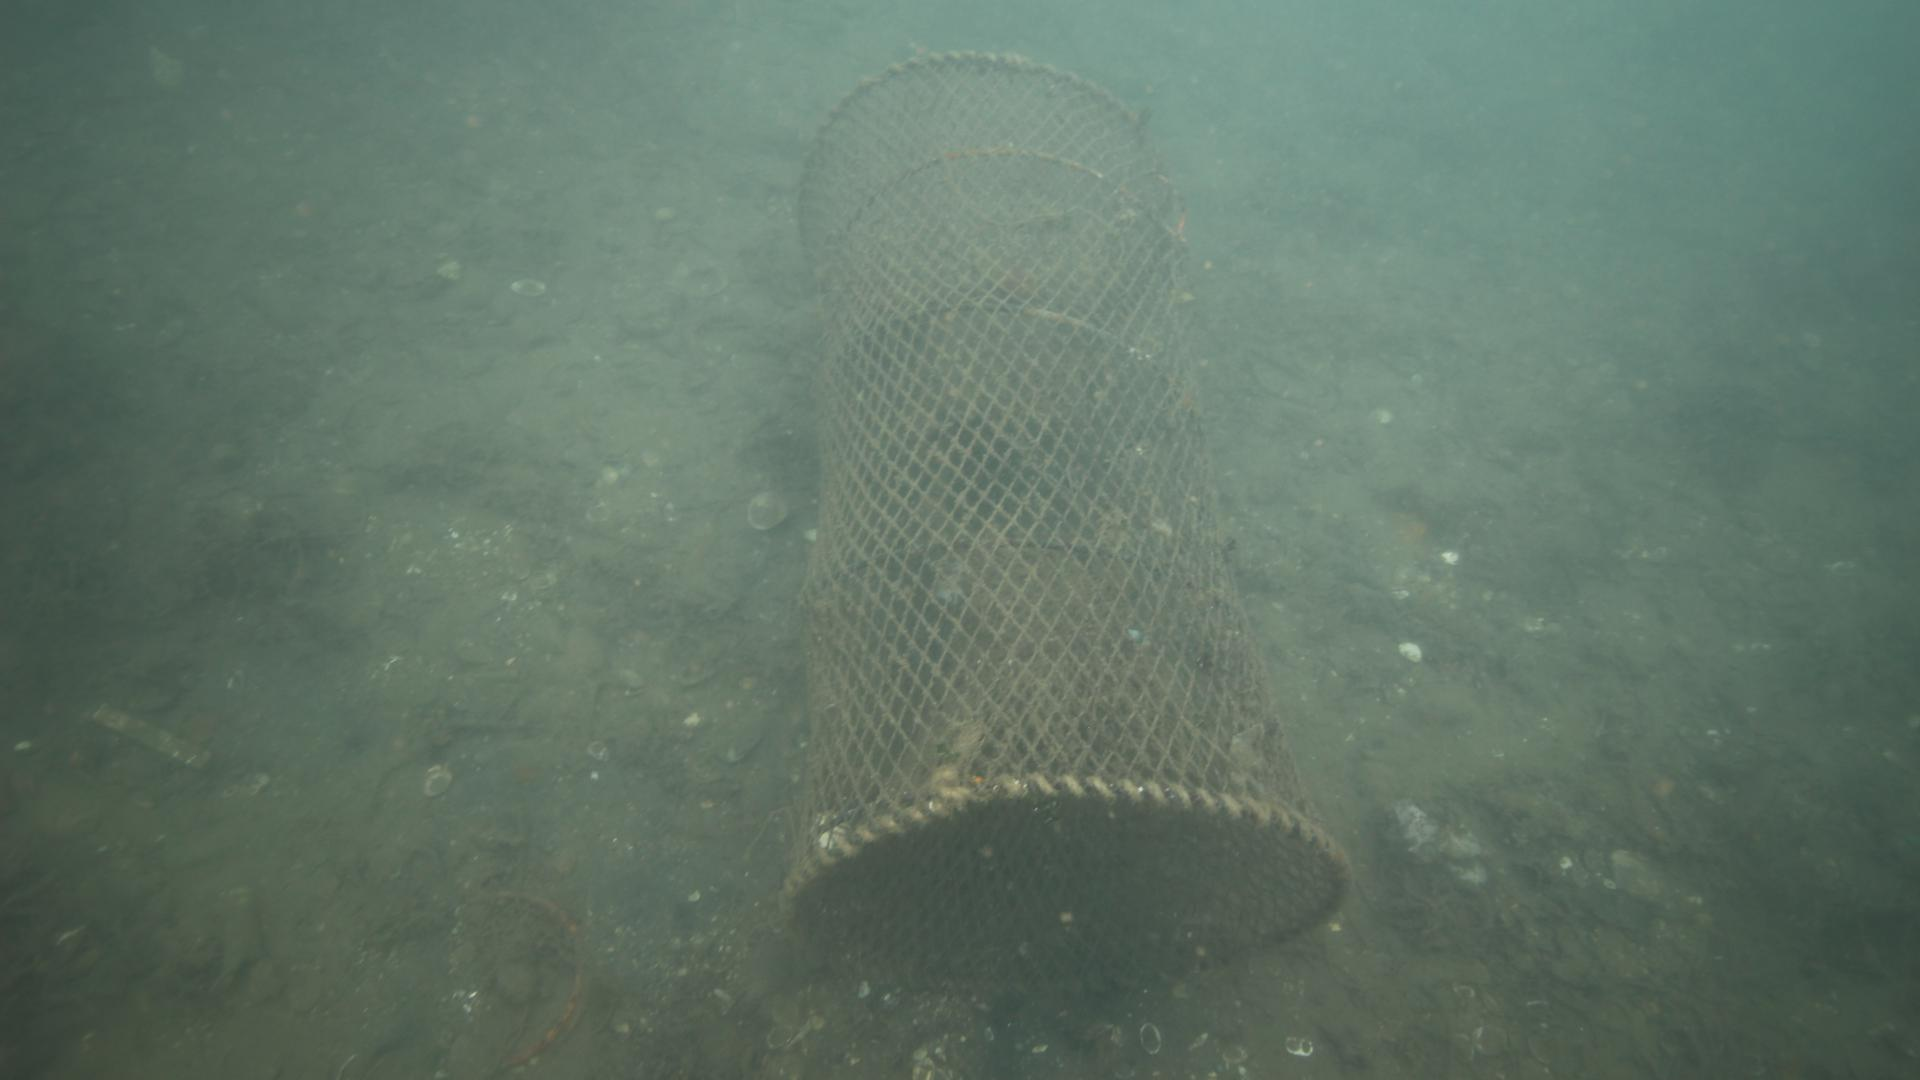spring fish trap: (771, 50, 1354, 982)
